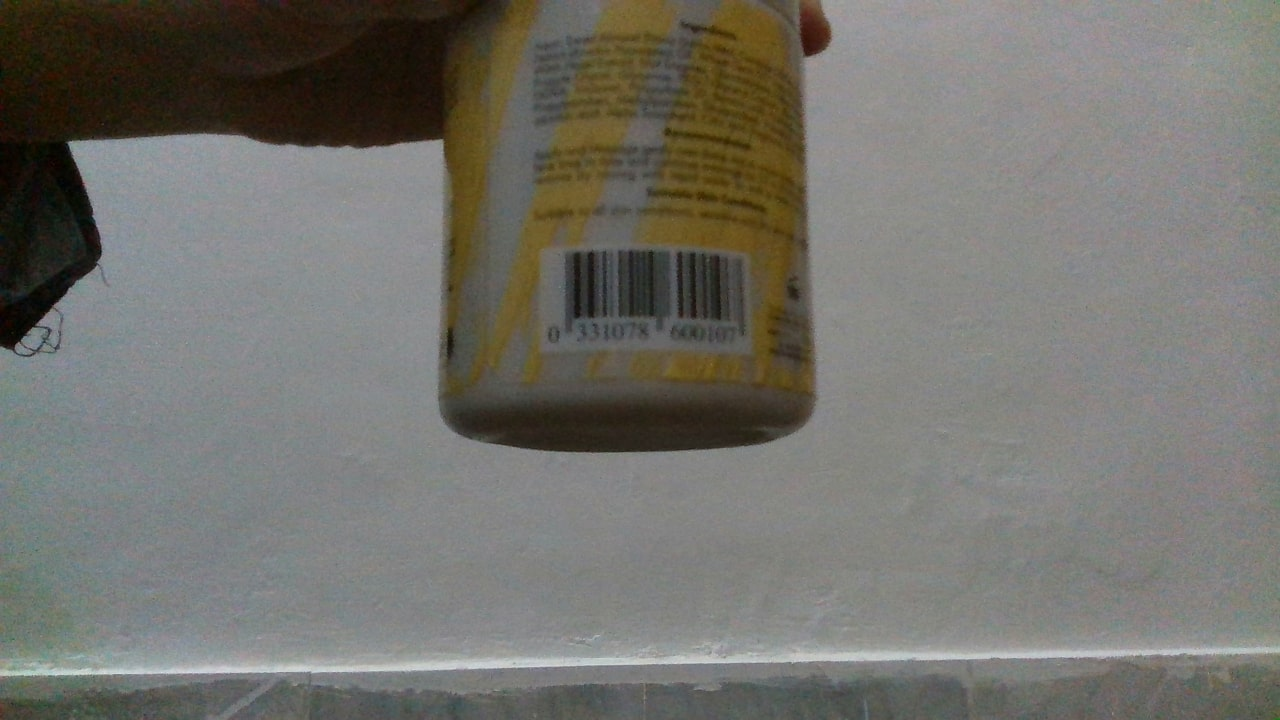Barcode: (561, 246, 750, 347)
